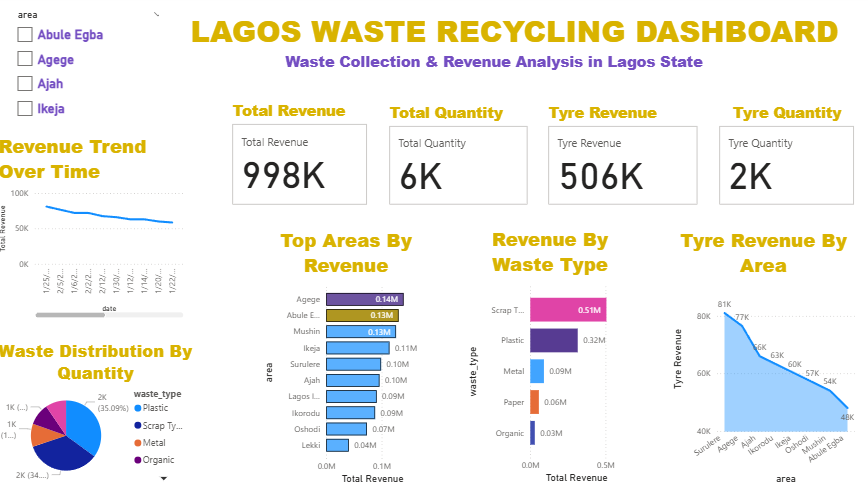

Layout of this report page (visuals, bound fields, positions):
{"tool":"powerbi","page":{"name":"Page 1","canvas":[1280,720],"ordinal":0},"visuals":[{"type":"cardVisual","title":"Tyre Revenue","fields":{"Data":["recycling_data.Tyre Revenue"]},"box":[813.7,153.7,228.3,155.1],"z":0},{"type":"cardVisual","title":"Tyre Quantity","fields":{"Data":["recycling_data.Tyre Quantity"]},"box":[1055.1,153.7,207.8,155.1],"z":1000},{"type":"cardVisual","title":"Total Quantity","fields":{"Data":["recycling_data.Total Quantity"]},"box":[579.5,153.7,212.2,155.1],"z":2000},{"type":"cardVisual","title":"Total Revenue","fields":{"Data":["recycling_data.Total Revenue"]},"box":[342.4,153.7,207.8,158],"z":3000},{"type":"barChart","title":"Revenue By Waste Type","fields":{"Category":["recycling_data.waste_type"],"Y":["recycling_data.Total Revenue"]},"box":[686.9,338.7,252,381.3],"z":4000},{"type":"clusteredBarChart","title":"Top Areas By Revenue ","fields":{"Category":["recycling_data.area"],"Y":["recycling_data.Total Revenue"]},"box":[387.8,339.5,251.7,380.5],"z":5000},{"type":"lineChart","title":"Revenue Trend Over Time","fields":{"Y":["recycling_data.Total Revenue"],"Category":["recycling_data.date"]},"box":[0,201.6,280.5,275.5],"z":6000},{"type":"areaChart","title":"Tyre Revenue By Area","fields":{"Category":["recycling_data.area"],"Y":["recycling_data.Tyre Revenue"]},"box":[986.3,339.5,276.6,380.5],"z":7000},{"type":"pieChart","title":"Waste Distribution By Quantity","fields":{"Category":["recycling_data.waste_type"],"Y":["Sum(recycling_data.quantity_kg)"]},"box":[0,503.9,294,216.7],"z":8000},{"type":"slicer","fields":{"Values":["recycling_data.area"]},"box":[20.5,16.1,237.1,168.3],"z":9000},{"type":"textbox","box":[240,16.1,1040.5,87.8],"z":10000},{"type":"textbox","box":[418.5,77.6,623.4,46.8],"z":10001}]}

Visuals, with their boxes in screenshot pixels (x1, y1, x2, y2), scaled from the page's 1280x720 canvas onto the 868x487 screenshot:
"Tyre Revenue" cardVisual: 552:104:707:209
"Tyre Quantity" cardVisual: 715:104:856:209
"Total Quantity" cardVisual: 393:104:537:209
"Total Revenue" cardVisual: 232:104:373:211
"Revenue By Waste Type" barChart: 466:229:637:486
"Top Areas By Revenue " clusteredBarChart: 263:230:434:486
"Revenue Trend Over Time" lineChart: 0:136:190:323
"Tyre Revenue By Area" areaChart: 669:230:856:486
"Waste Distribution By Quantity" pieChart: 0:341:199:486
slicer - recycling_data.area: 14:11:175:125
textbox: 163:11:867:70
textbox: 284:52:707:84
